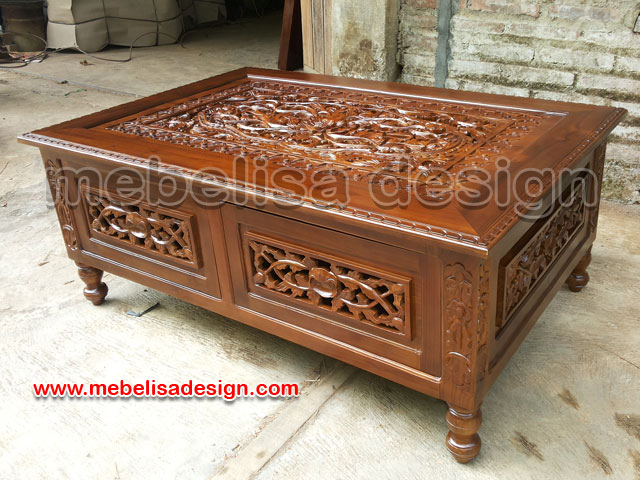Carving Table: (18, 75, 618, 430)
